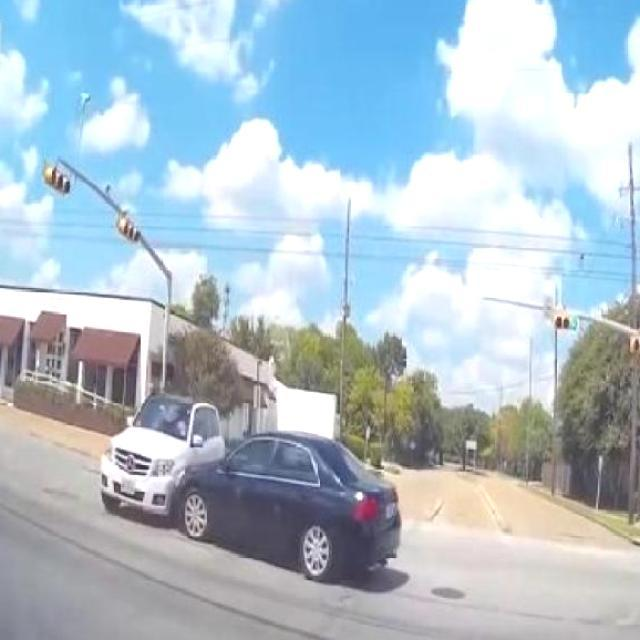accident: (86, 385, 404, 588)
